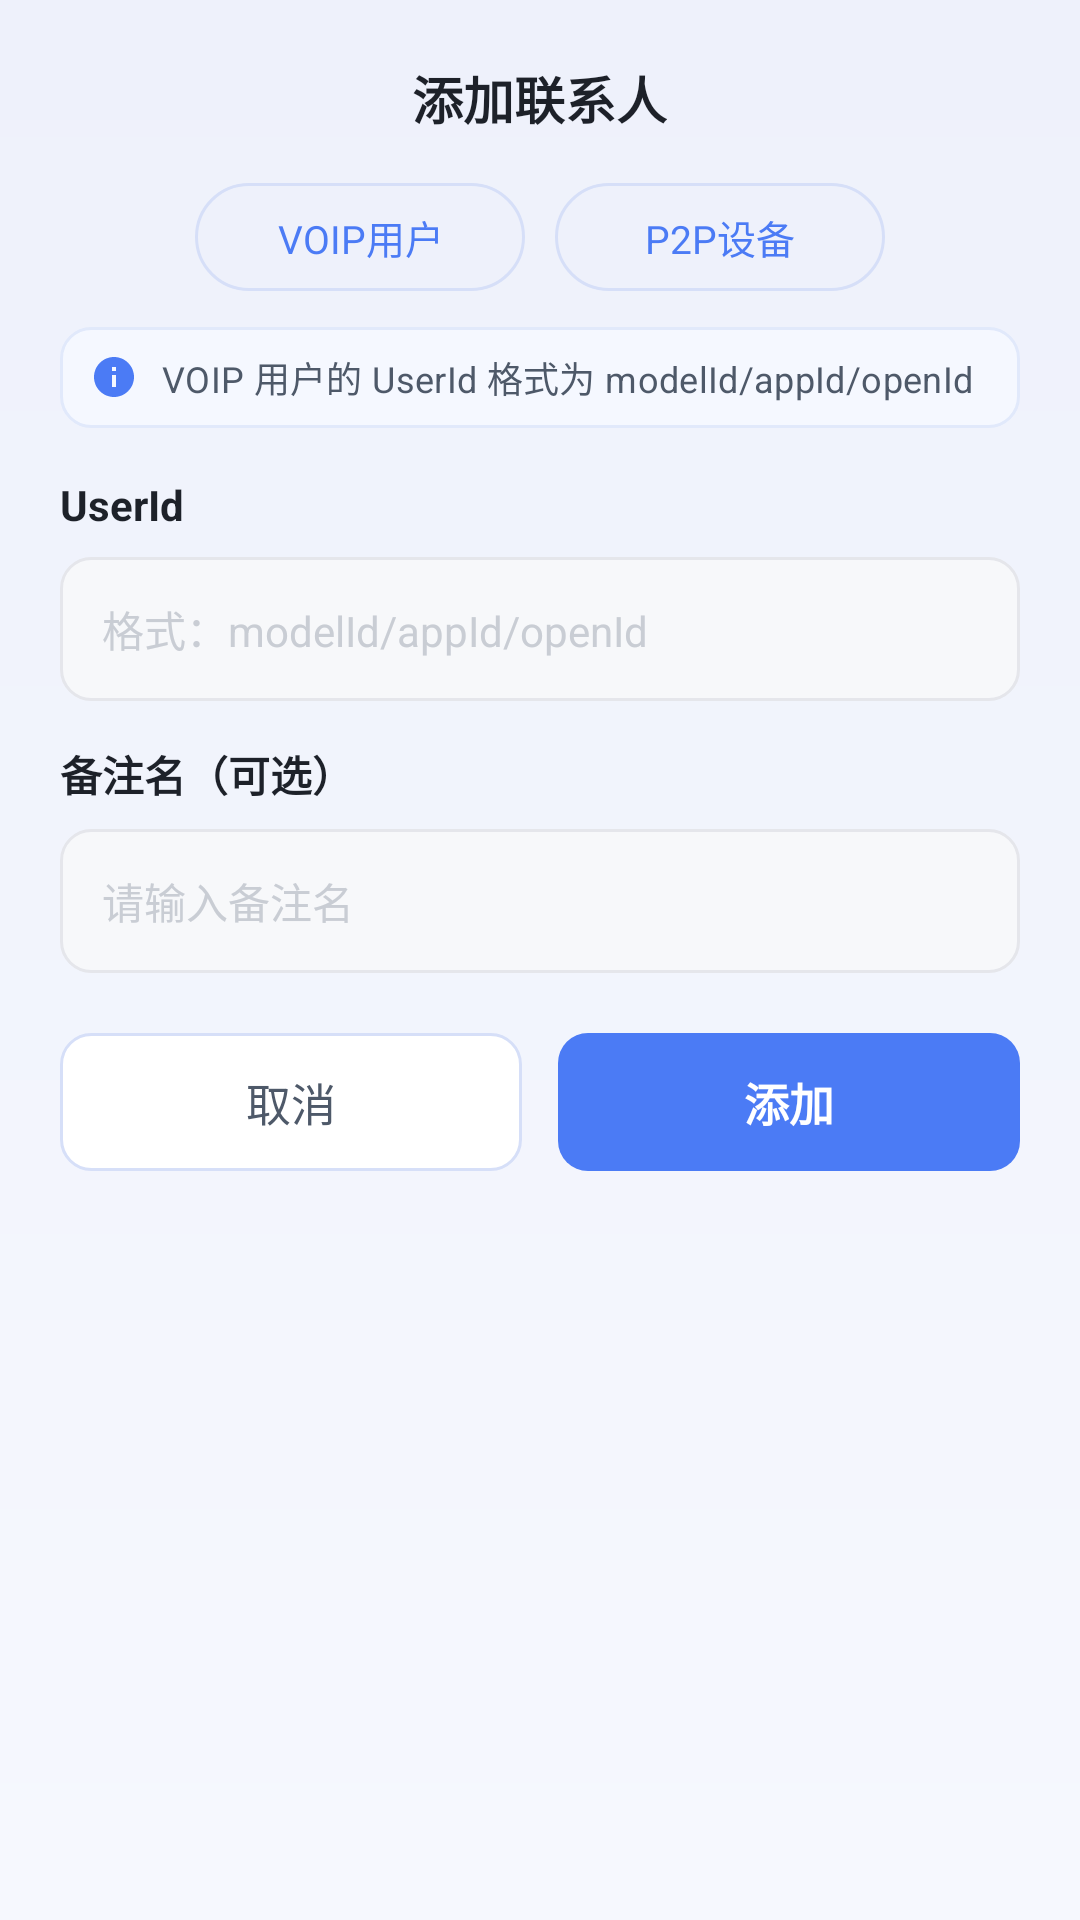

Icons on this 1080w x 1920h Android screen, each with the point to tap as point (x, y):
home tip info: point (114, 377)
